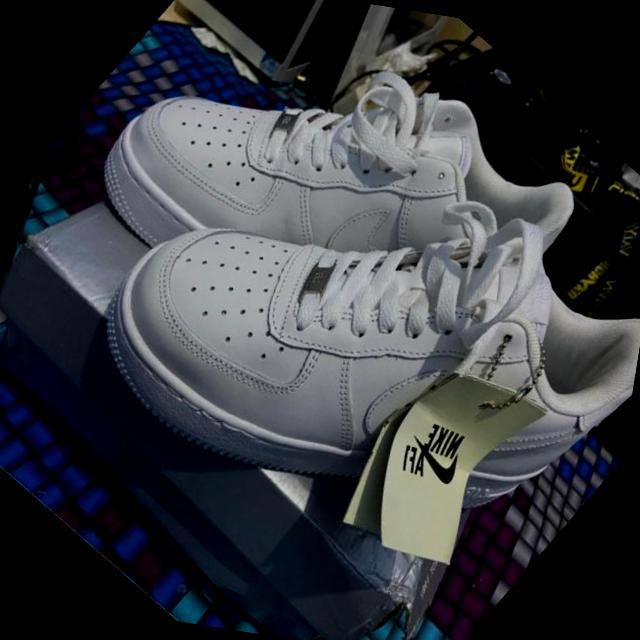nike_fake_airforce: (25, 6, 640, 640), (36, 0, 617, 475)
